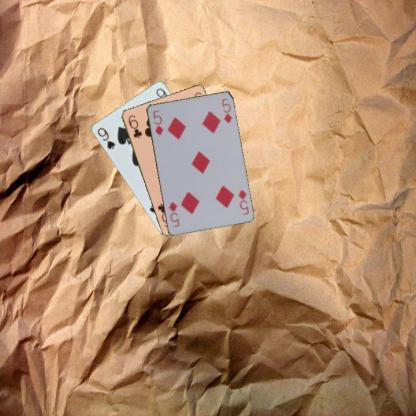5d: (235, 187, 250, 216), (150, 108, 164, 136)
6c: (126, 112, 144, 140)
9s: (95, 125, 116, 150)
